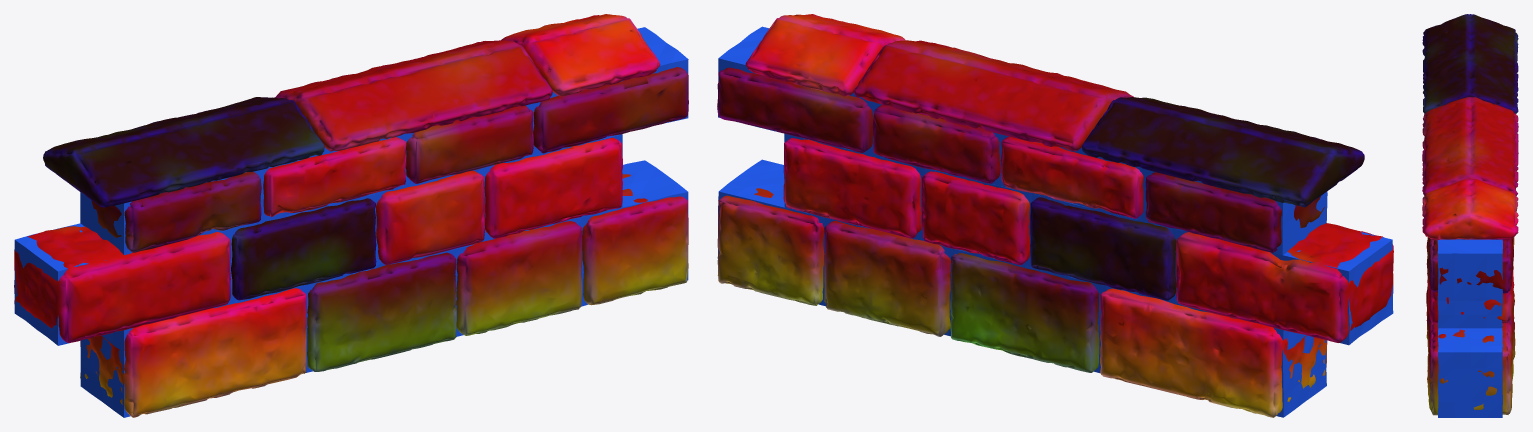
Rendered from SM_InnerParapet488_B.fbx.
3 views of the same model, side by side, from view 1: azimuth 30°, elevation 25°; view 2: azimuth 150°, elevation 25°; view 3: azimuth 270°, elevation 25° (orthographic). The views are drawn at different scales.
Parts seen in each view (by area): view 1: SM_InnerParapet488_B; view 2: SM_InnerParapet488_B; view 3: SM_InnerParapet488_B.
Boxes of the visible parts, <box> form: SM_InnerParapet488_B: <box>14,14,688,417</box>; SM_InnerParapet488_B: <box>717,14,1393,417</box>; SM_InnerParapet488_B: <box>1422,14,1518,417</box>.
Bounding box in the file's own units: 270 × 105 × 47.8.
